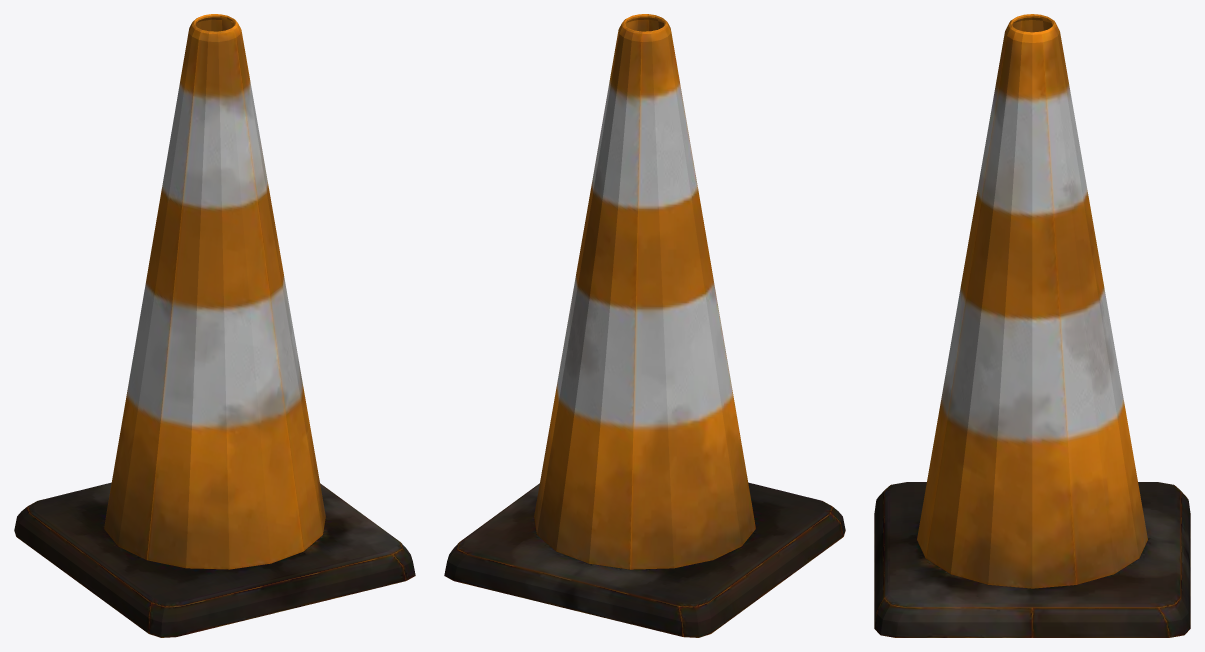
Rendered from strProp_06.glb.
3 renders of one model, left to right at view 1: azimuth 30°, elevation 25°; view 2: azimuth 150°, elevation 25°; view 3: azimuth 270°, elevation 25°, orthographic. The views are drawn at different scales.
Visible parts, largest first — view 1: geometry_0; view 2: geometry_0; view 3: geometry_0.
Part boxes in pixels (x1,y1,x2,y2): geometry_0: (14,14,415,637); geometry_0: (444,14,845,637); geometry_0: (874,14,1190,637).
Size of the model in its own units: 0.2615 by 0.5002 by 0.2615.
1 material, 1 textured.
